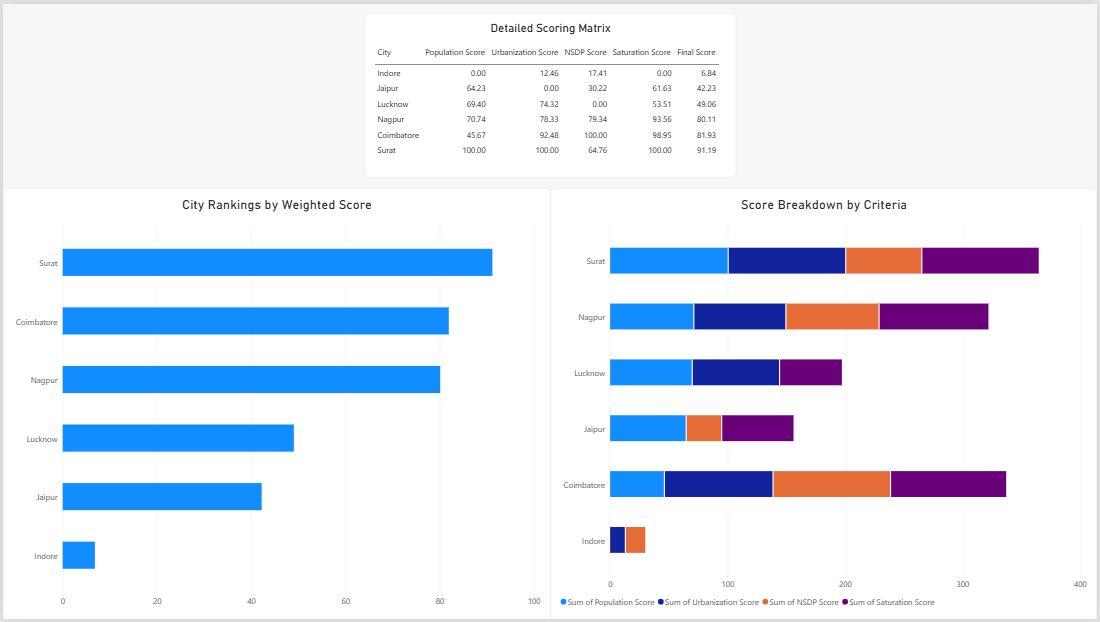

The page's visual inventory and layout, read from the dashboard file:
{"tool":"powerbi","page":{"name":"Page 1","canvas":[1920,1080],"ordinal":0},"visuals":[{"type":"clusteredBarChart","title":"City Rankings by Weighted Score","fields":{"Category":["Sheet1.City"],"Y":["Sum(Sheet1.Final Score)"]},"box":[0,322.5,960.8,756.3],"z":0},{"type":"barChart","title":"Score Breakdown by Criteria","fields":{"Category":["Sheet1.City"],"Y":["Sum(Sheet1.Population Score)","Sum(Sheet1.Urbanization Score)","Sum(Sheet1.NSDP Score)","Sum(Sheet1.Saturation Score)"]},"box":[960.8,322.5,958.5,756.3],"z":1},{"type":"tableEx","title":"Detailed Scoring Matrix","fields":{"Values":["Sheet1.City","Sheet1.Population Score","Sheet1.Urbanization Score","Sheet1.NSDP Score","Sheet1.Saturation Score","Sheet1.Final Score"]},"box":[633.7,15.9,651.9,288.5],"z":2}]}

Visuals, with their boxes in screenshot pixels (x1, y1, x2, y2), scaled from the page's 1920x1080 canvas onto the 1100x622 screenshot:
"City Rankings by Weighted Score" clusteredBarChart: select_region(0, 186, 550, 621)
"Score Breakdown by Criteria" barChart: select_region(550, 186, 1099, 621)
"Detailed Scoring Matrix" tableEx: select_region(363, 9, 737, 175)
